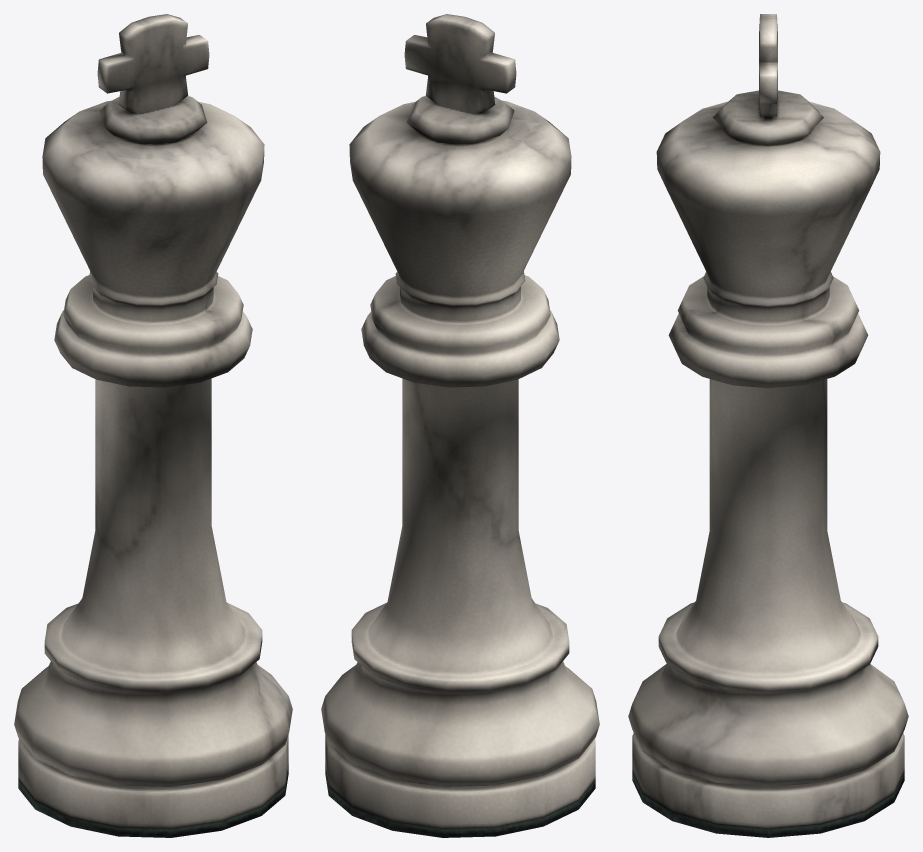
File: ChessPieces_King_White.gltf
The picture shows the model from 3 angles, left to right: view 1: azimuth 30°, elevation 25°; view 2: azimuth 150°, elevation 25°; view 3: azimuth 270°, elevation 25°; orthographic projection.
Parts seen in each view (by area): view 1: ChessPieces_King_White; view 2: ChessPieces_King_White; view 3: ChessPieces_King_White.
Boxes of the visible parts, <box> form: ChessPieces_King_White: <box>14,14,292,837</box>; ChessPieces_King_White: <box>321,14,599,837</box>; ChessPieces_King_White: <box>628,14,908,837</box>.
Size of the model in its own units: 0.0304 by 0.0909 by 0.0304.
1 material, 1 textured.
